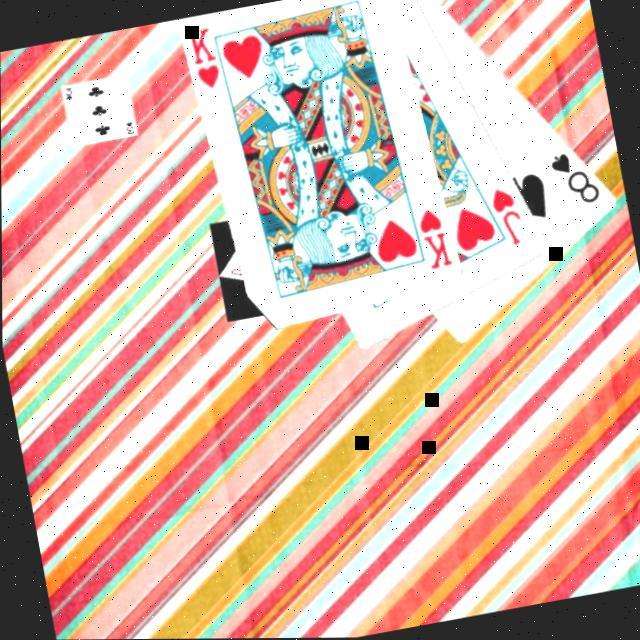8S: (544, 142, 604, 212)
JH: (484, 181, 528, 251)
KH: (412, 203, 454, 273), (183, 23, 224, 94)
